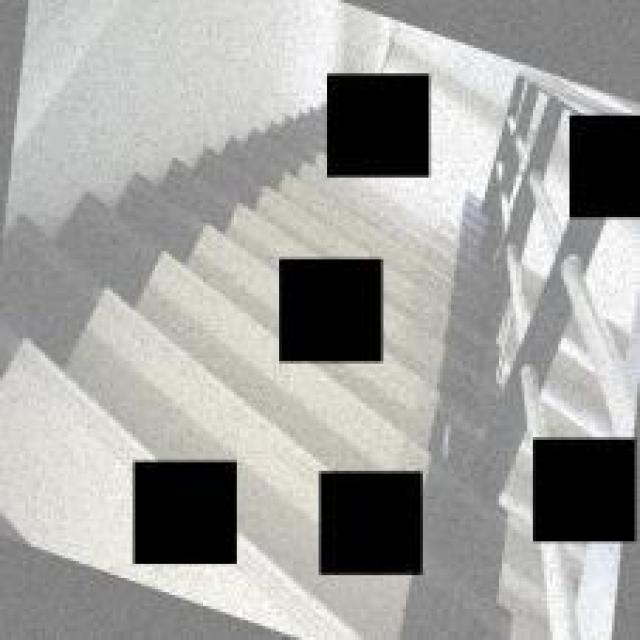downstair: (15, 241, 272, 455)
